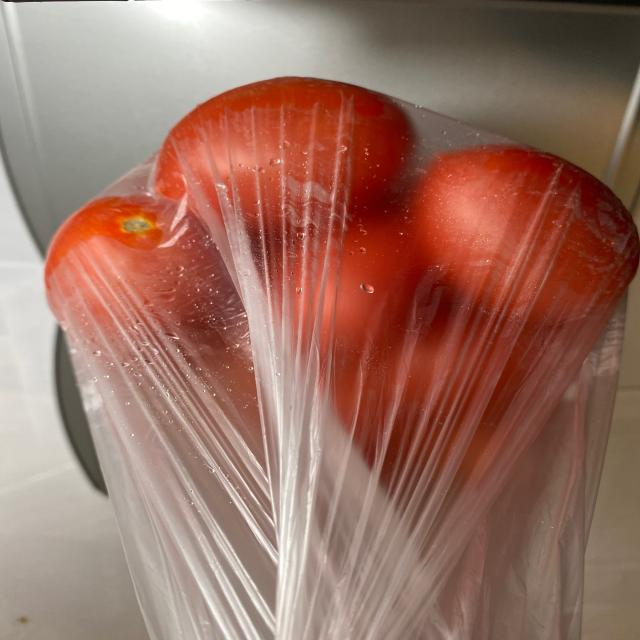tomato: (46, 89, 627, 476)
